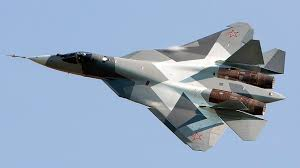fighter: (1, 21, 293, 155)
